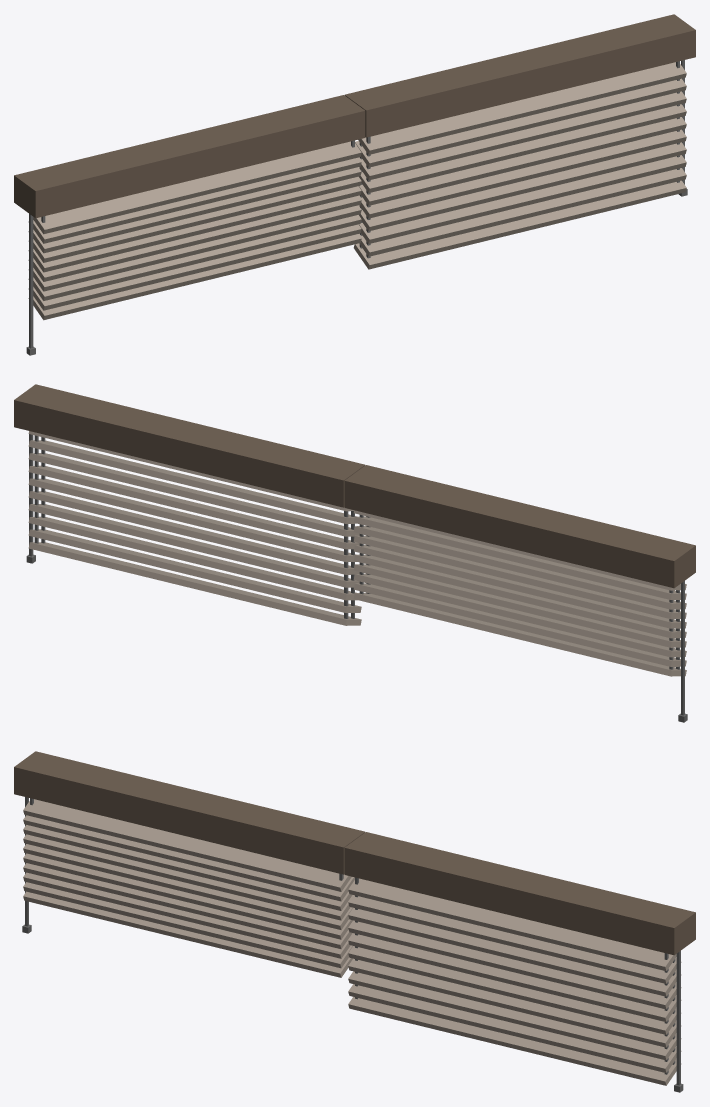
Rendered from Curtains15_C2.fbx.
3 views of the same model, one above another, from view 1: azimuth 30°, elevation 25°; view 2: azimuth 150°, elevation 25°; view 3: azimuth 330°, elevation 25° (orthographic).
Parts seen in each view (by area): view 1: Curtains15_C2; view 2: Curtains15_C2; view 3: Curtains15_C2.
Boxes of the visible parts, x1,y1,x2,y2 form: Curtains15_C2: (14, 14, 695, 355); Curtains15_C2: (14, 384, 695, 722); Curtains15_C2: (14, 751, 695, 1092).
Bounding box in the file's own units: 223 × 54.95 × 12.67.
